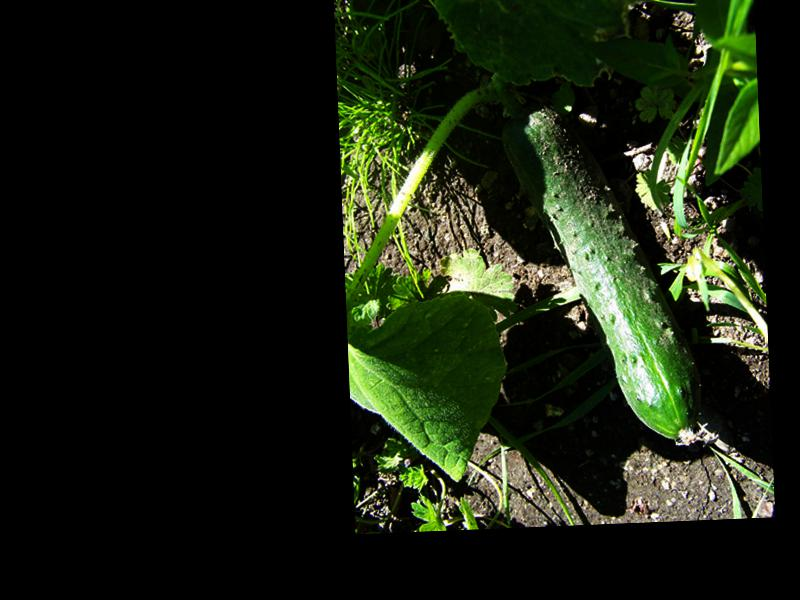Cucumber: (499, 95, 704, 451)
